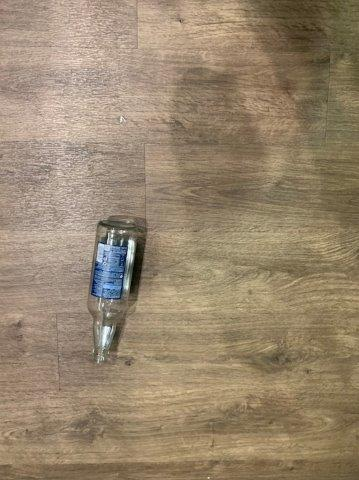botolkaca: (88, 222, 137, 363)
